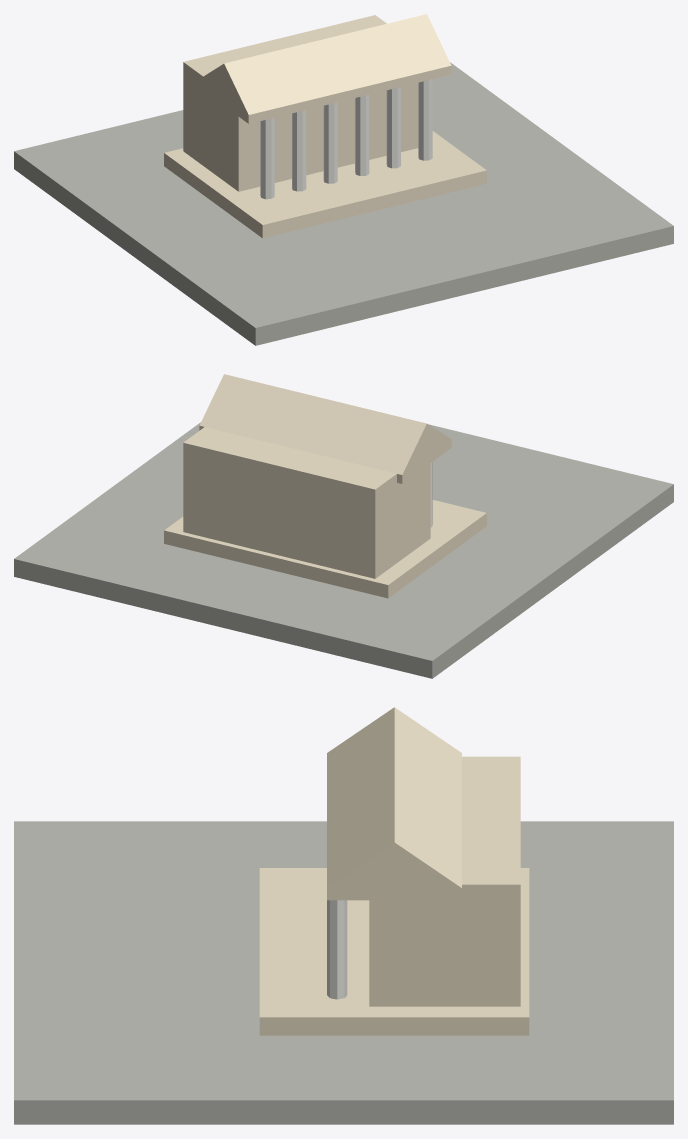
The model's file is finance_income_1.glb.
The picture shows the model from 3 angles, top to bottom: view 1: azimuth 30°, elevation 25°; view 2: azimuth 150°, elevation 25°; view 3: azimuth 270°, elevation 25°; orthographic projection. The views are drawn at different scales.
Visible parts, largest first — view 1: finance_income_1; view 2: finance_income_1; view 3: finance_income_1.
Part boxes in pixels (x1,y1,x2,y2): finance_income_1: [14, 14, 673, 345]; finance_income_1: [14, 374, 673, 678]; finance_income_1: [14, 707, 673, 1124].
Size of the model in its own units: 1.96 by 0.69 by 1.96.
